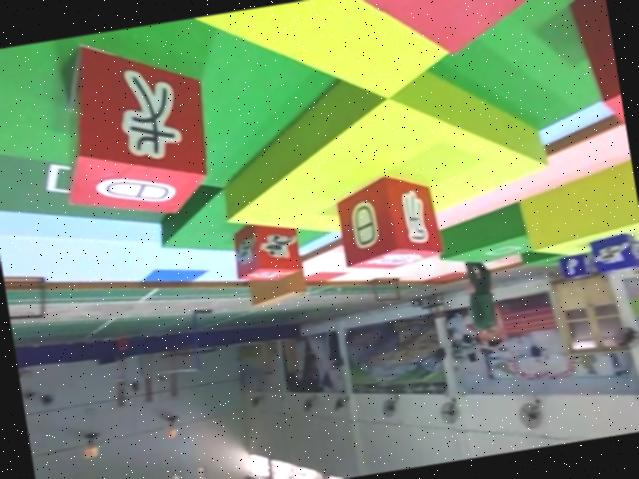R1: (224, 217, 302, 287)
R2 Fake: (43, 34, 217, 236), (327, 166, 444, 277)
